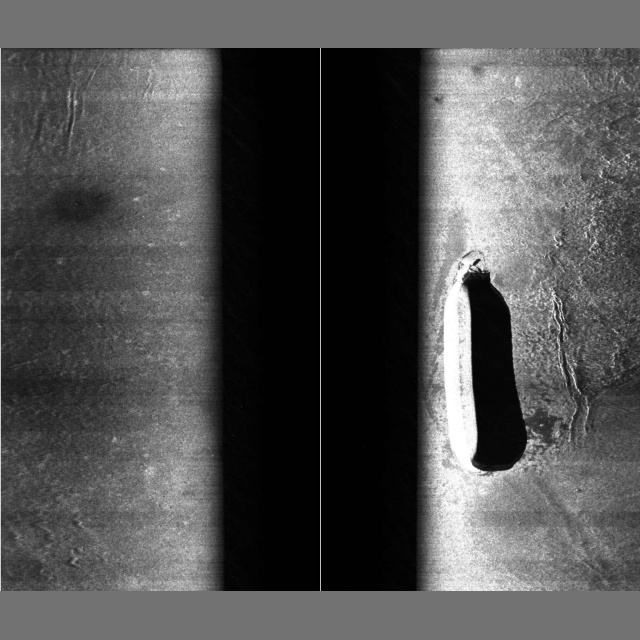Shipwreck: (443, 258, 491, 475)
